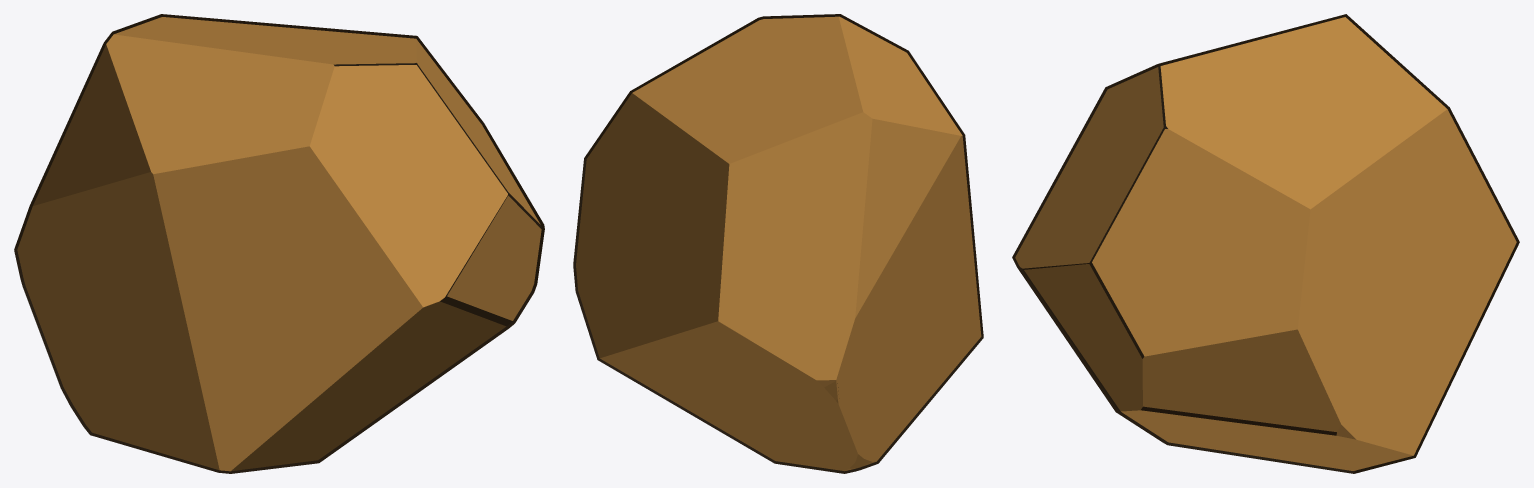
Rendered from rock_1.glb.
3 renders of one model, left to right at view 1: azimuth 30°, elevation 25°; view 2: azimuth 150°, elevation 25°; view 3: azimuth 270°, elevation 25°, orthographic. The views are drawn at different scales.
Parts seen in each view (by area): view 1: Cube.005; view 2: Cube.005; view 3: Cube.005.
Boxes of the visible parts, bbox=[...] form: Cube.005: bbox=[14, 14, 544, 473]; Cube.005: bbox=[573, 14, 983, 473]; Cube.005: bbox=[1012, 14, 1519, 473].
Bounding box in the file's own units: 4.11 × 4.46 × 4.85.
